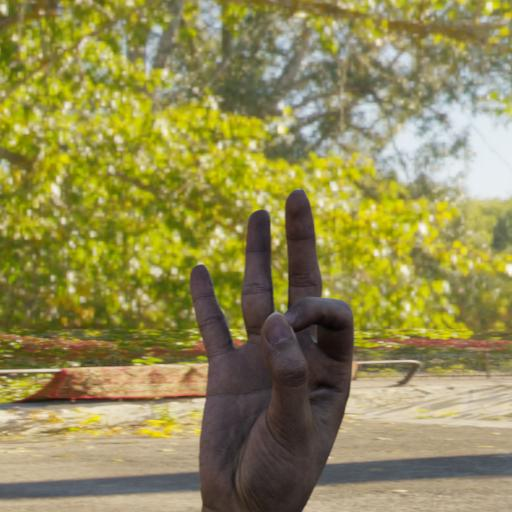F: (162, 144, 394, 512)
